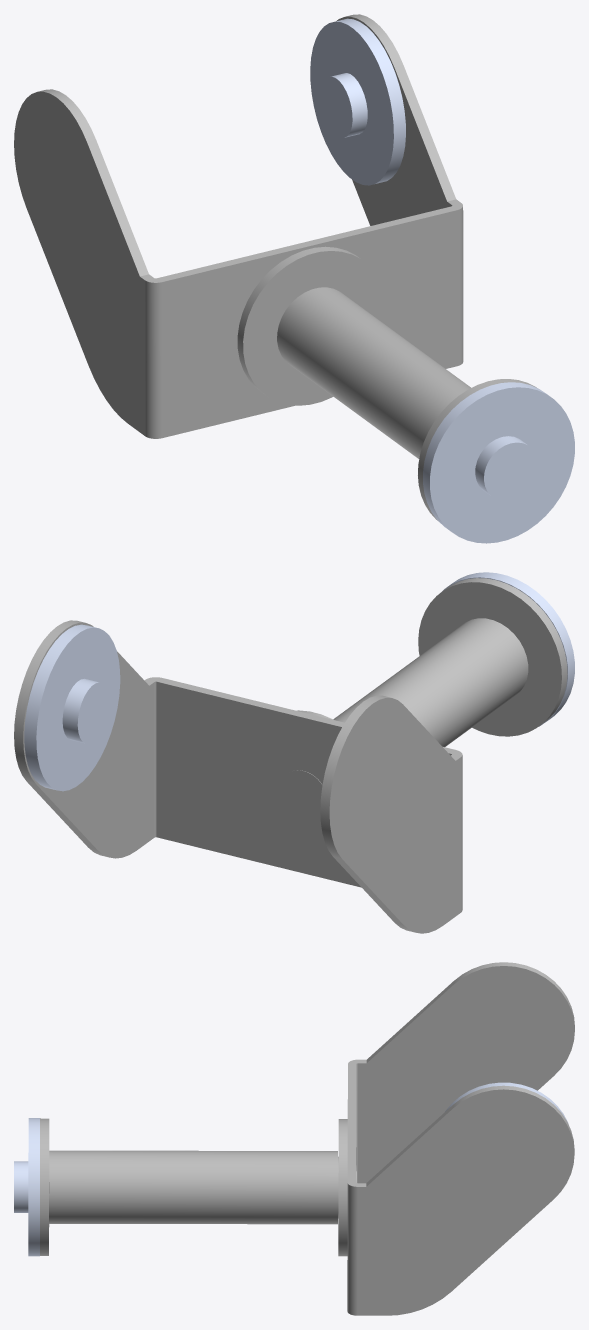
The model's file is upperarm.dae.
3 views of the same model, one above another, from view 1: azimuth 30°, elevation 25°; view 2: azimuth 150°, elevation 25°; view 3: azimuth 270°, elevation 25° (orthographic). The views are drawn at different scales.
Parts seen in each view (by area): view 1: Actor0; view 2: Actor0; view 3: Actor0.
Part boxes in pixels (box(x1,y1,x2,y2)): Actor0: box(14, 14, 574, 543); Actor0: box(14, 572, 574, 933); Actor0: box(14, 962, 574, 1315).
Size of the model in its own units: 0.0523 by 0.0433 by 0.0971.
